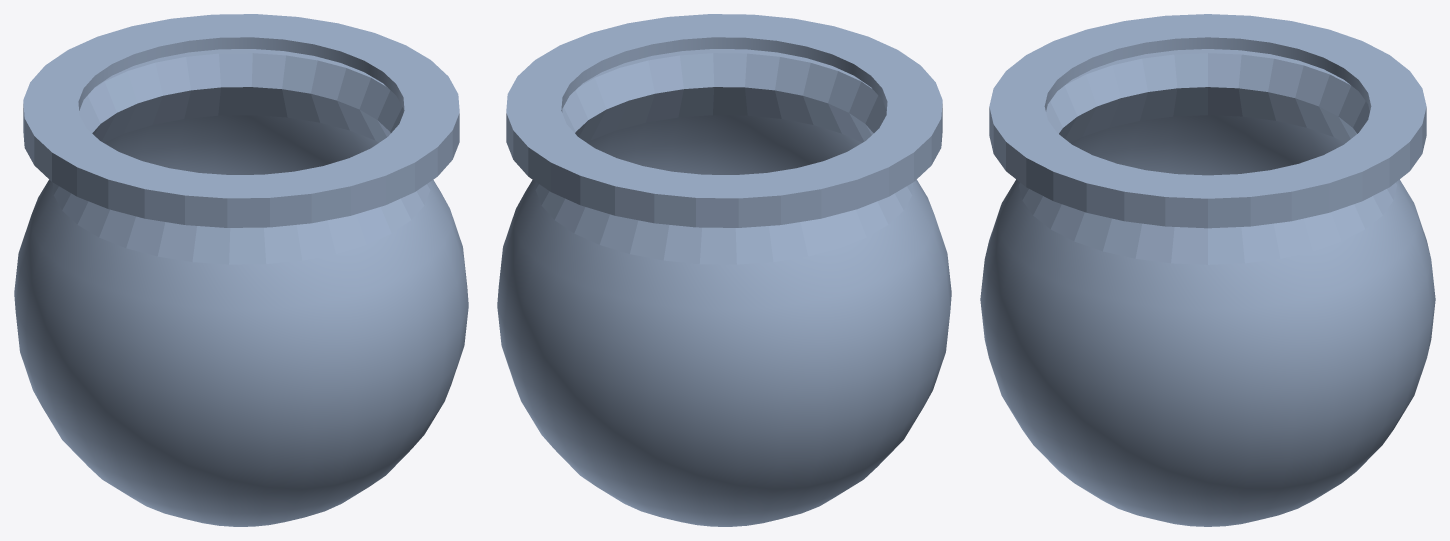
File: Fish Pintada2.fbx
3 views of the same model, side by side, from view 1: azimuth 30°, elevation 25°; view 2: azimuth 150°, elevation 25°; view 3: azimuth 270°, elevation 25° (orthographic).
Parts seen in each view (by area): view 1: Sphere001; view 2: Sphere001; view 3: Sphere001.
Part boxes in pixels (left/top/right/bottom): Sphere001: left=14, top=14, right=468, bottom=526; Sphere001: left=497, top=14, right=951, bottom=526; Sphere001: left=980, top=14, right=1435, bottom=526.
Bounding box in the file's own units: 523 × 487 × 523.
